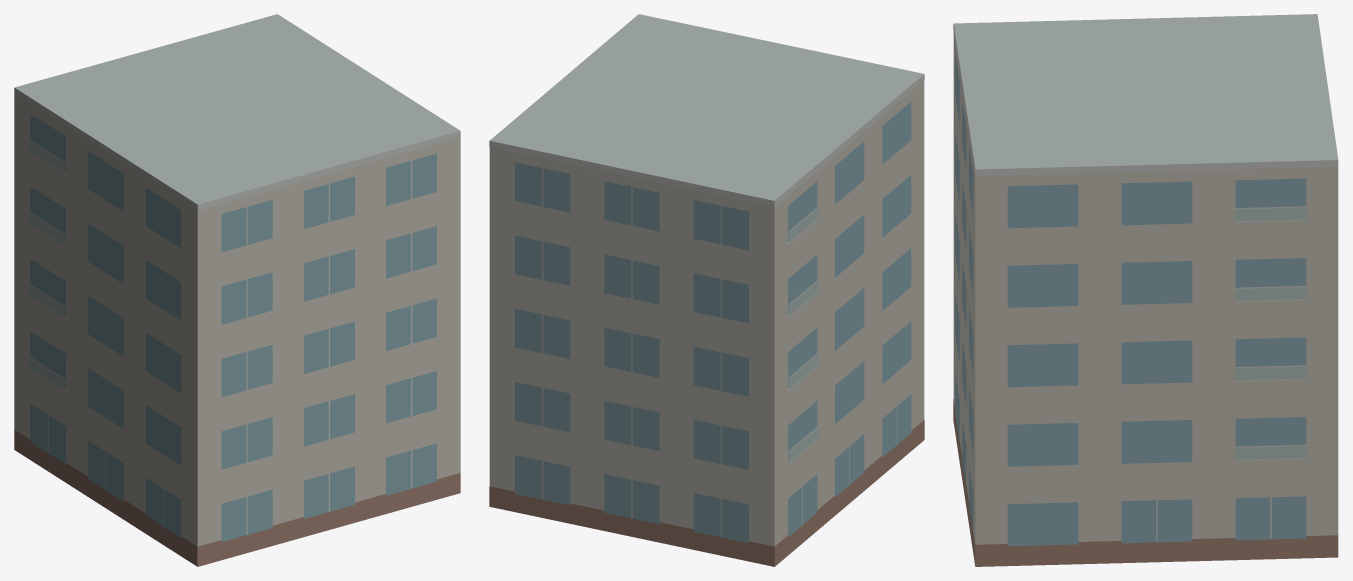
The model's file is survey-upis-32982395.glb.
3 renders of one model, left to right at view 1: azimuth 30°, elevation 25°; view 2: azimuth 150°, elevation 25°; view 3: azimuth 270°, elevation 25°, orthographic. The views are drawn at different scales.
Parts seen in each view (by area): view 1: survey-upis-32982395.tmp; view 2: survey-upis-32982395.tmp; view 3: survey-upis-32982395.tmp.
Part boxes in pixels (bbox=[...]): survey-upis-32982395.tmp: bbox=[14, 14, 460, 566]; survey-upis-32982395.tmp: bbox=[489, 14, 924, 566]; survey-upis-32982395.tmp: bbox=[953, 14, 1338, 566].
Size of the model in its own units: 12.17 by 14.5 by 12.74.
